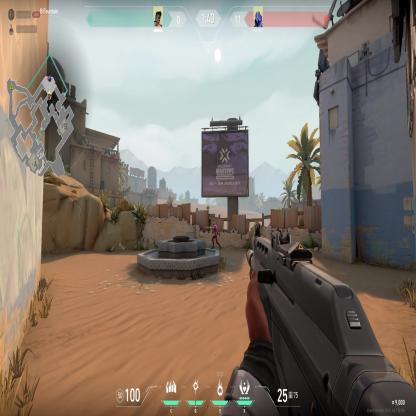enemy: (209, 220, 222, 252)
